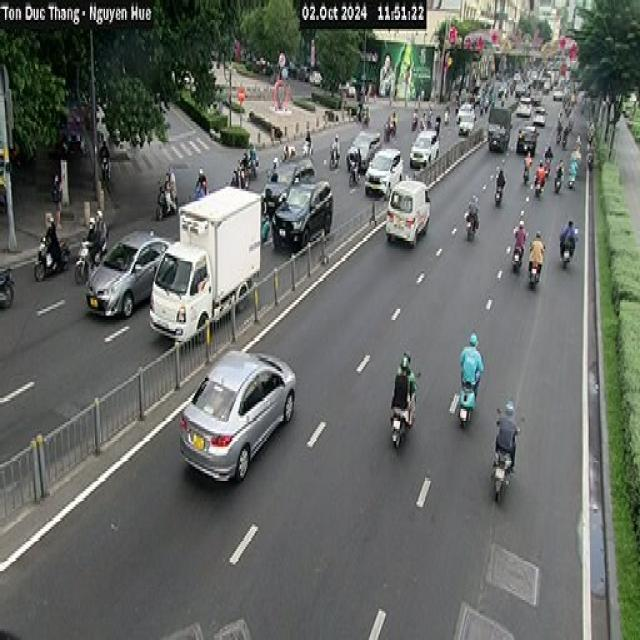car: (179, 349, 296, 482), (85, 229, 173, 318), (364, 147, 404, 196), (409, 129, 439, 167)
motorcycle: (32, 236, 70, 280), (489, 449, 516, 509), (458, 371, 478, 427), (558, 226, 578, 266), (464, 209, 478, 240), (494, 178, 504, 204)
person: (494, 396, 520, 456), (462, 328, 482, 397), (527, 229, 545, 280), (512, 218, 528, 262), (50, 171, 62, 229)
truck: (149, 184, 261, 344)
